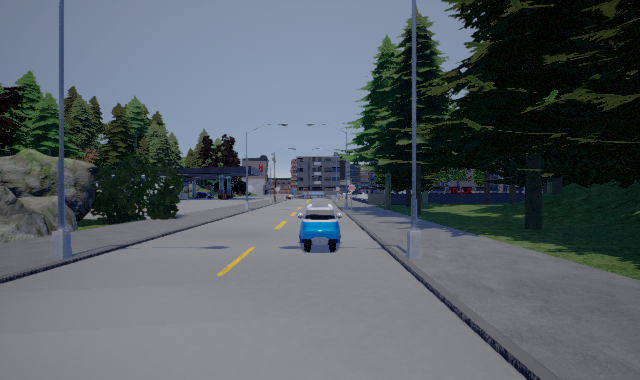traffic_sign: (348, 184, 356, 192)
vehicle: (298, 204, 343, 252)
